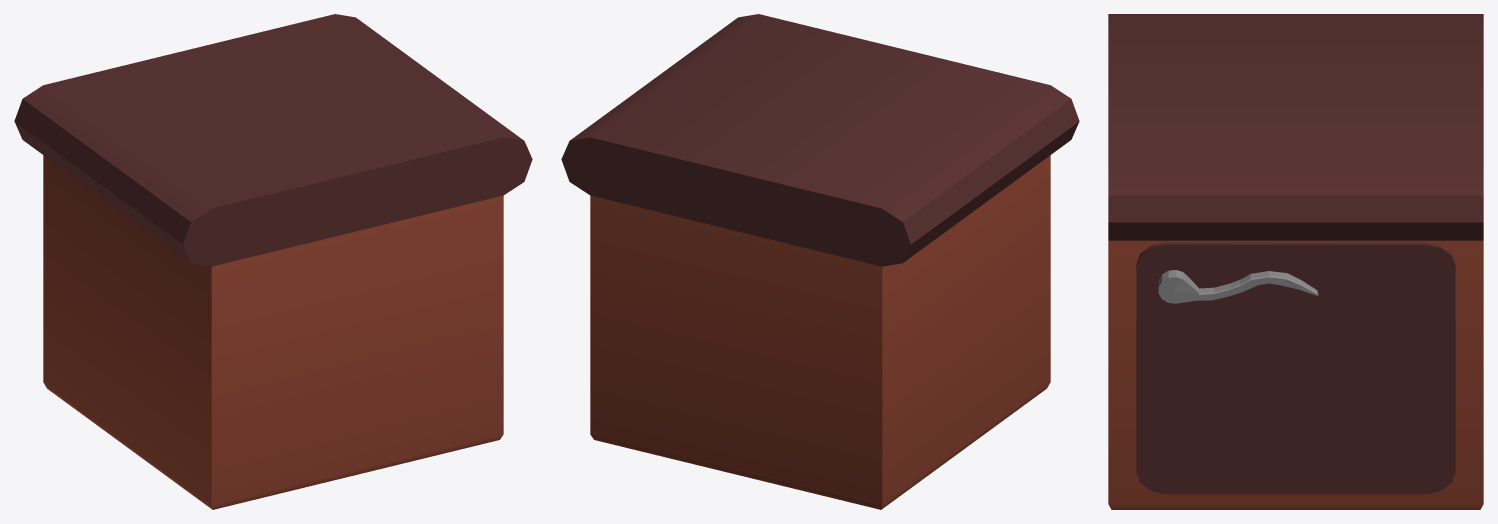
The model's file is middle counter with color.fbx.
3 renders of one model, left to right at view 1: azimuth 30°, elevation 25°; view 2: azimuth 150°, elevation 25°; view 3: azimuth 270°, elevation 25°, orthographic. The views are drawn at different scales.
Parts seen in each view (by area): view 1: counter base; view 2: counter base; view 3: counter base, cabinet, handel.
Boxes of the visible parts, x1,y1,x2,y2 form: counter base: [14, 14, 532, 509]; counter base: [561, 14, 1079, 509]; counter base: [1108, 14, 1483, 509]; cabinet: [1136, 242, 1455, 494]; handel: [1158, 270, 1318, 303].
Bounding box in the file's own units: 120 × 100 × 100.
